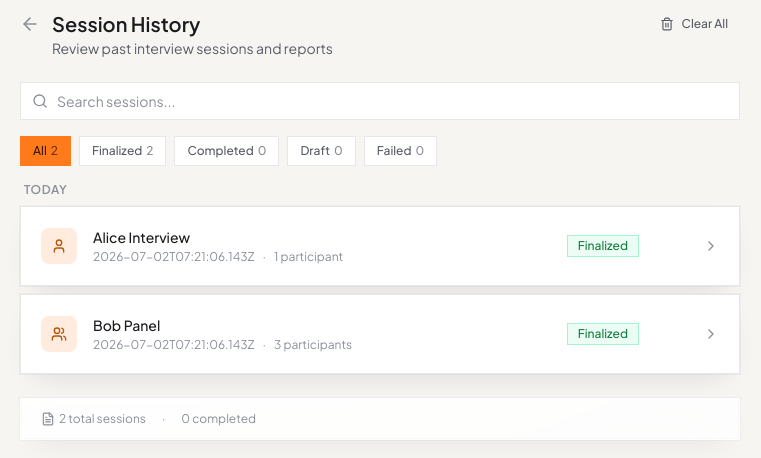
Test case: HistoryView › filters sessions by search query
Type "alice" into the field with placeholder "Search sessions..." at point(380, 101), box 20,82 -> 740,120
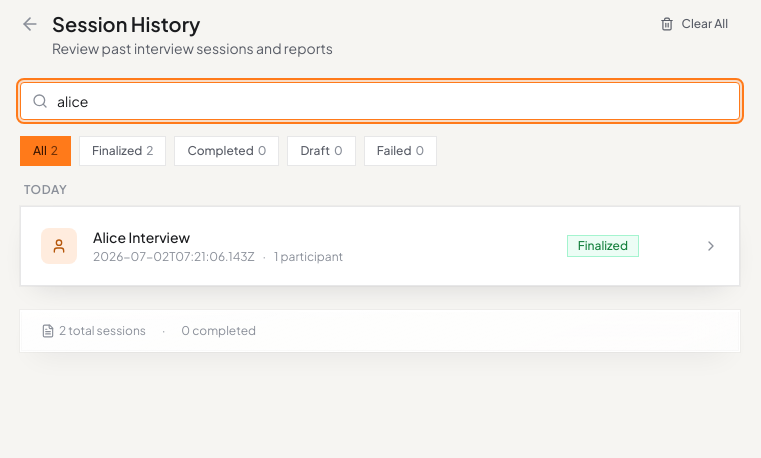
Check: the text "Alice Interview" is shown, box 93,228 -> 190,246
Check: the text "Bob Panel" is gone
